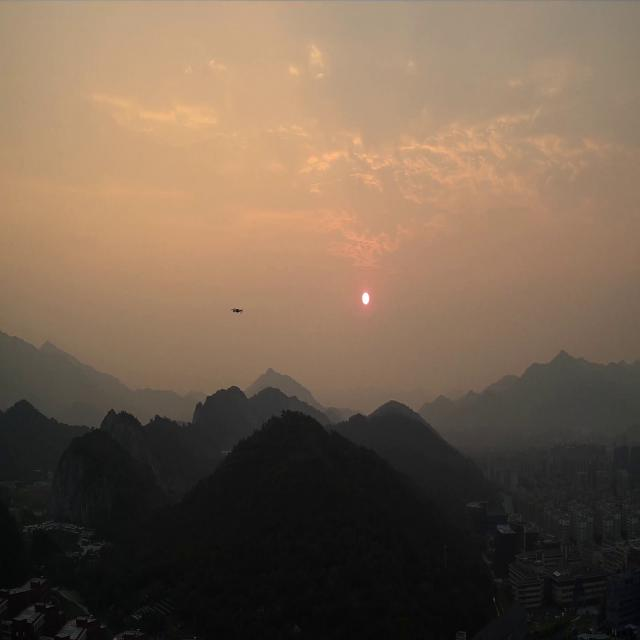UAV: (230, 306, 244, 314)
